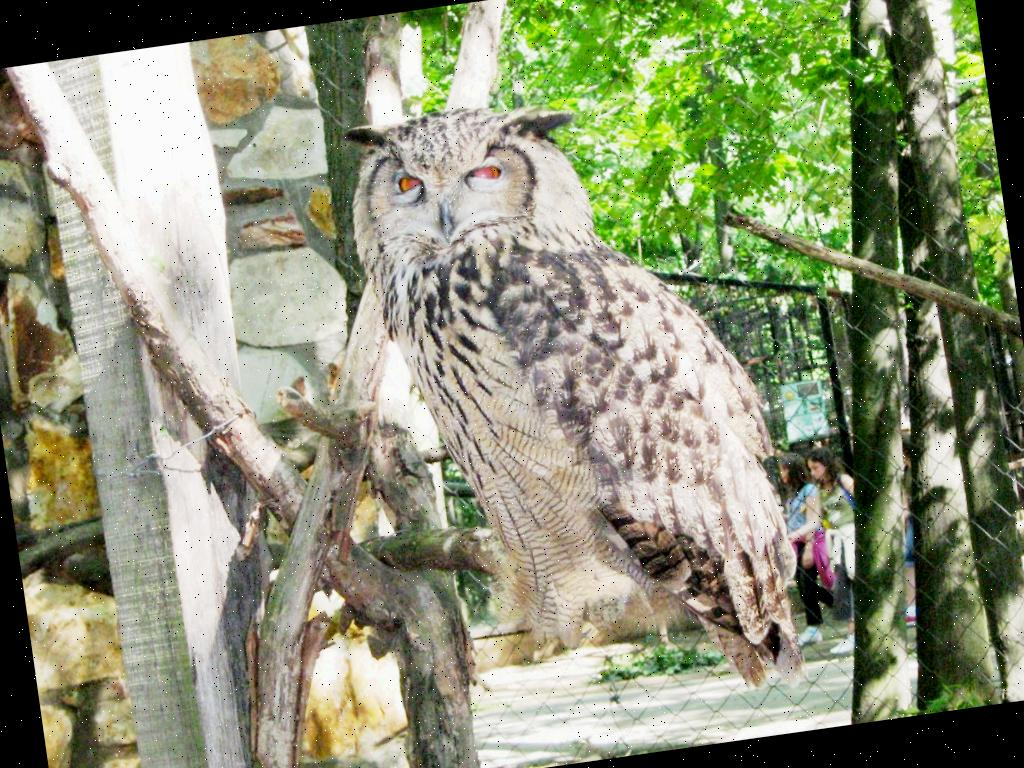Owl: (336, 70, 814, 740)
